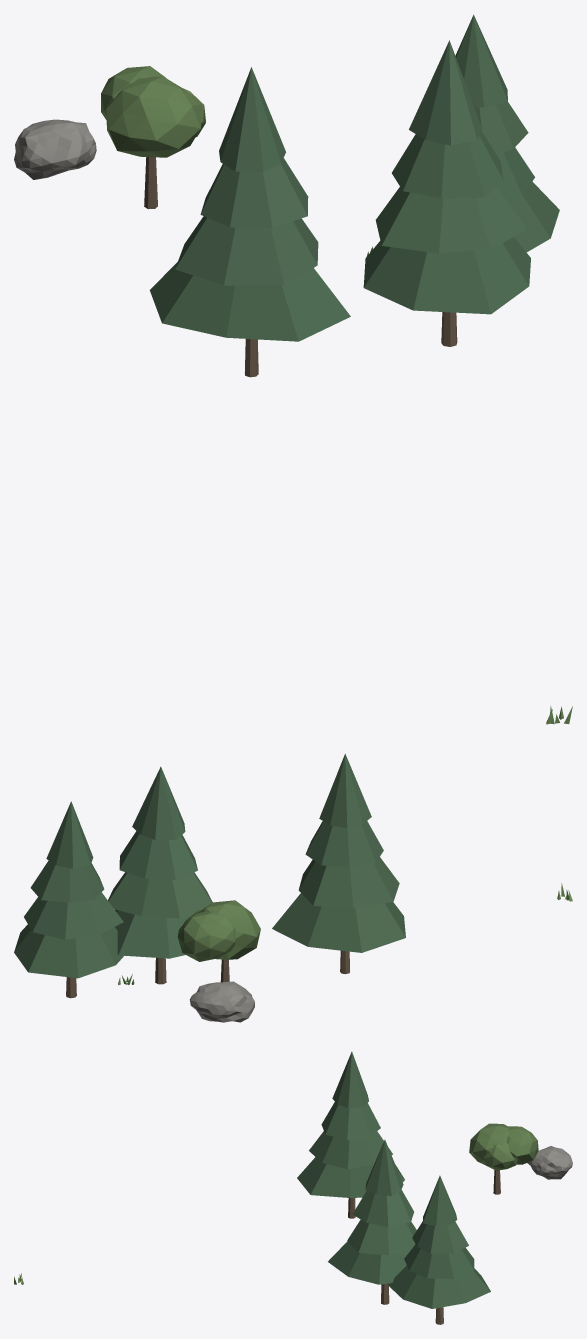
The model's file is arch_land_scatter_c23_19.glb.
3 renders of one model, top to bottom at view 1: azimuth 30°, elevation 25°; view 2: azimuth 150°, elevation 25°; view 3: azimuth 270°, elevation 25°, orthographic. The views are drawn at different scales.
Visible parts, largest first — view 1: arch_land_scatter_c23_19; view 2: arch_land_scatter_c23_19; view 3: arch_land_scatter_c23_19.
Part boxes in pixels (<box>): arch_land_scatter_c23_19: <box>14,14,572,724</box>; arch_land_scatter_c23_19: <box>14,754,572,1022</box>; arch_land_scatter_c23_19: <box>14,1051,572,1324</box>.
Size of the model in its own units: 22.52 by 19.67 by 42.95.
